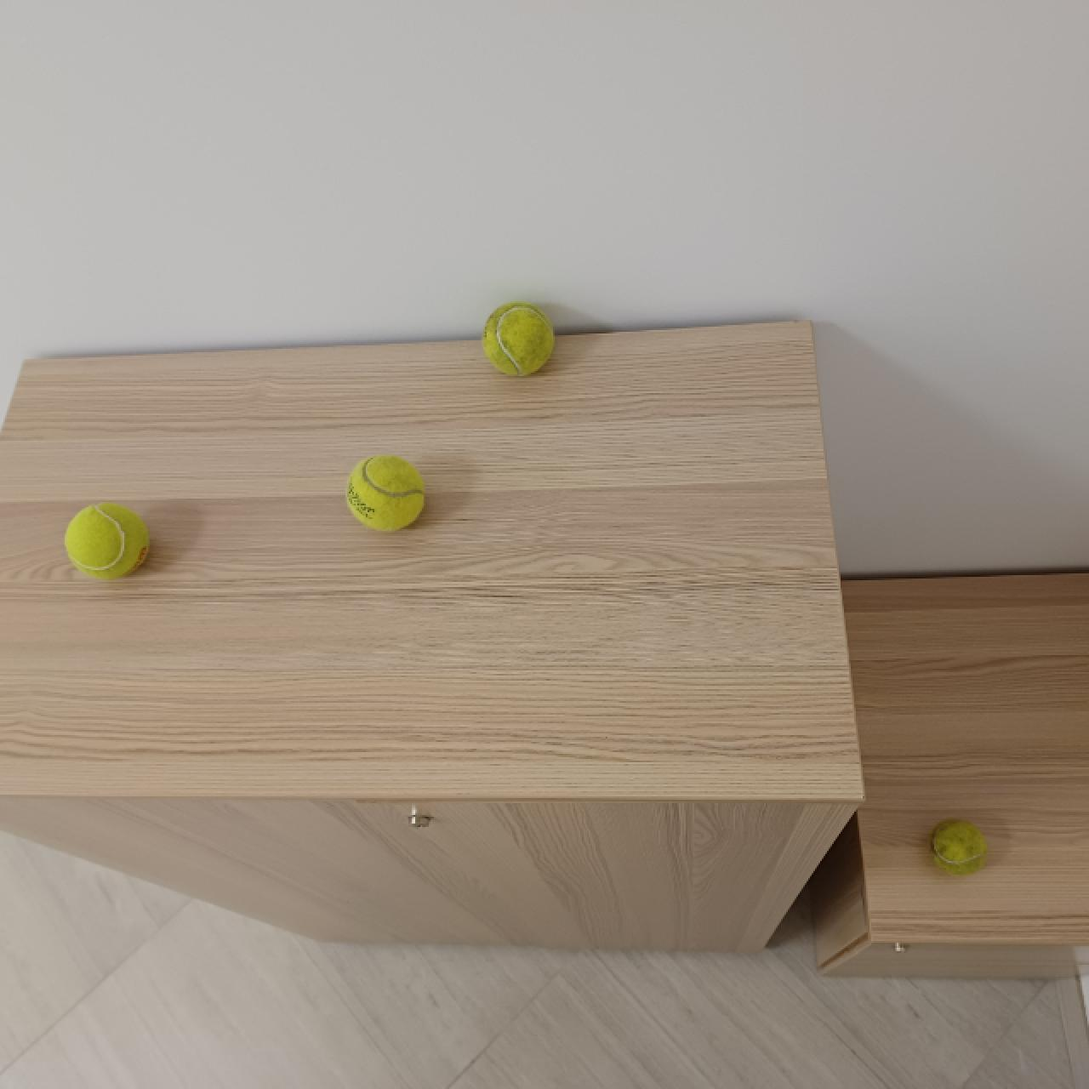tennis-ball: (64, 498, 153, 583), (345, 453, 425, 535), (479, 299, 557, 382), (928, 815, 987, 879)
